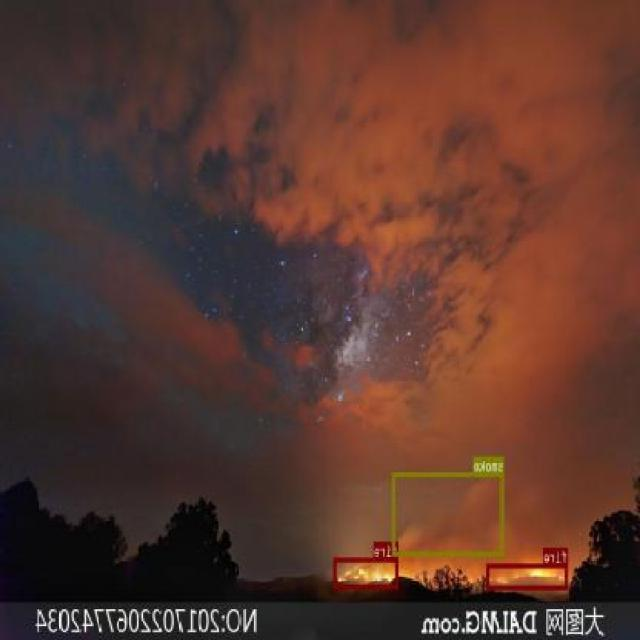Fire: (334, 557, 398, 588), (486, 564, 568, 588)
Smoke: (392, 472, 505, 556)
